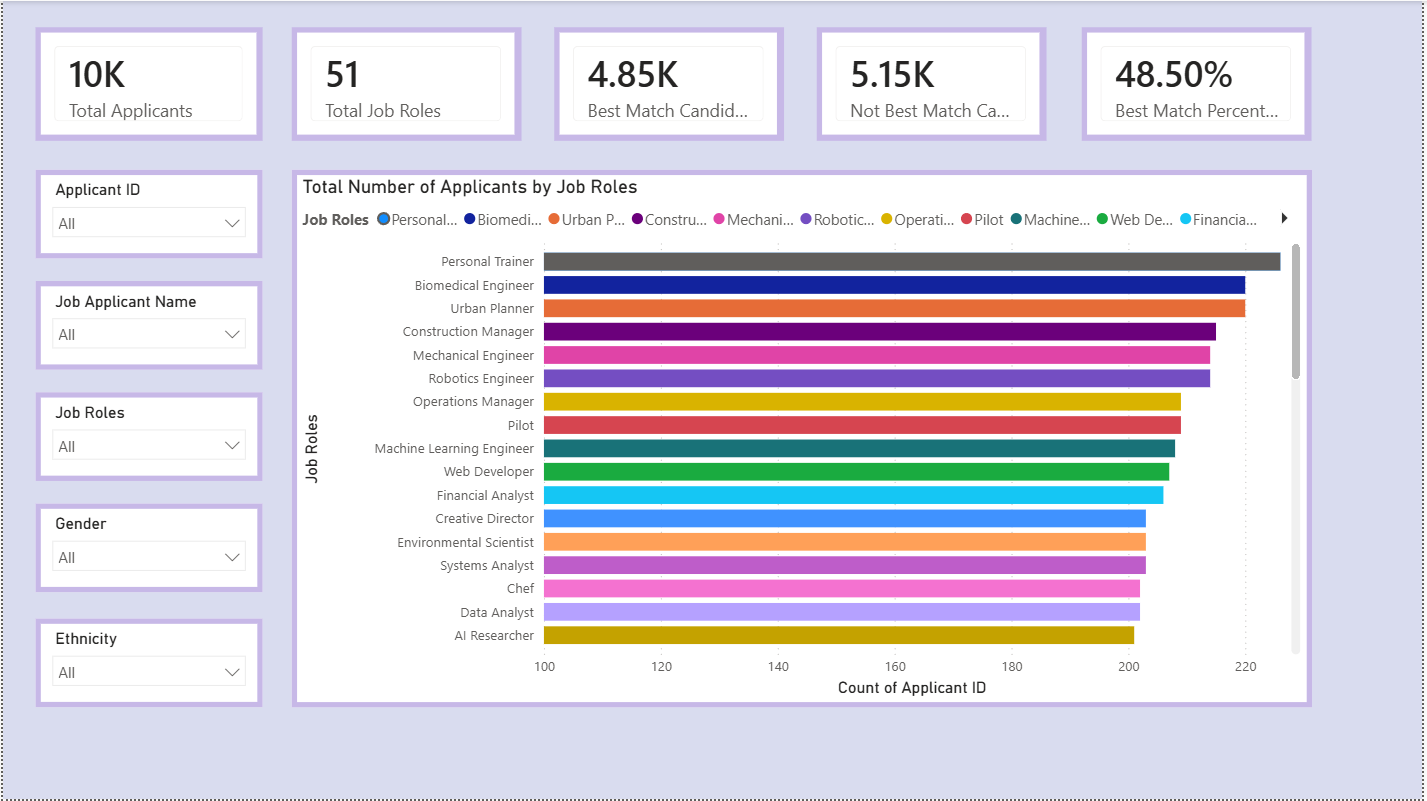

This screenshot's page, from the dashboard's own definition file:
{"tool":"powerbi","page":{"name":"Page 1","canvas":[1280,720],"ordinal":0},"visuals":[{"type":"cardVisual","fields":{"Data":["job_applicant_dataset (2).Total Applicants"]},"box":[29.1,23.3,204.7,102.3],"z":0},{"type":"cardVisual","fields":{"Data":["job_applicant_dataset (2).Total Job Roles"]},"box":[260.5,23.3,207,102.3],"z":1000},{"type":"cardVisual","fields":{"Data":["job_applicant_dataset (2).Best Match Candidates"]},"box":[496.5,23.3,207,102.3],"z":2000},{"type":"cardVisual","fields":{"Data":["job_applicant_dataset (2).Not Best Match Candidates"]},"box":[733.7,23.3,207,102.3],"z":3000},{"type":"cardVisual","fields":{"Data":["job_applicant_dataset (2).Best Match Percentage"]},"box":[973.3,23.3,207,102.3],"z":4000},{"type":"slicer","fields":{"Values":["job_applicant_dataset (2).Applicant ID"]},"box":[29.1,152.3,204.7,80.2],"z":5000},{"type":"slicer","fields":{"Values":["job_applicant_dataset (2).Job Applicant Name"]},"box":[29.1,252.3,204.7,80.2],"z":6000},{"type":"slicer","fields":{"Values":["job_applicant_dataset (2).Job Roles"]},"box":[29.1,352.3,204.7,80.2],"z":7000},{"type":"slicer","fields":{"Values":["job_applicant_dataset (2).Gender"]},"box":[29.1,453.5,204.7,80.2],"z":8000},{"type":"slicer","fields":{"Values":["job_applicant_dataset (2).Ethnicity"]},"box":[29.1,557,204.7,80.2],"z":9000},{"type":"barChart","title":"Total Number of Applicants by Job Roles","fields":{"Category":["job_applicant_dataset (2).Job Roles"],"Y":["Count(job_applicant_dataset (2).Applicant ID)"],"Series":["job_applicant_dataset (2).Job Roles"]},"box":[260.5,152.3,919.8,484.9],"z":10000}]}

Visuals, with their boxes in screenshot pixels (x1, y1, x2, y2), scaled from the page's 1280x720 canvas onto the 1427x801 screenshot:
cardVisual - job_applicant_dataset (2).Total Applicants: <region>32, 26, 261, 140</region>
cardVisual - job_applicant_dataset (2).Total Job Roles: <region>290, 26, 521, 140</region>
cardVisual - job_applicant_dataset (2).Best Match Candidates: <region>554, 26, 784, 140</region>
cardVisual - job_applicant_dataset (2).Not Best Match Candidates: <region>818, 26, 1049, 140</region>
cardVisual - job_applicant_dataset (2).Best Match Percentage: <region>1085, 26, 1316, 140</region>
slicer - job_applicant_dataset (2).Applicant ID: <region>32, 169, 261, 259</region>
slicer - job_applicant_dataset (2).Job Applicant Name: <region>32, 281, 261, 370</region>
slicer - job_applicant_dataset (2).Job Roles: <region>32, 392, 261, 481</region>
slicer - job_applicant_dataset (2).Gender: <region>32, 505, 261, 594</region>
slicer - job_applicant_dataset (2).Ethnicity: <region>32, 620, 261, 709</region>
"Total Number of Applicants by Job Roles" barChart: <region>290, 169, 1316, 709</region>
